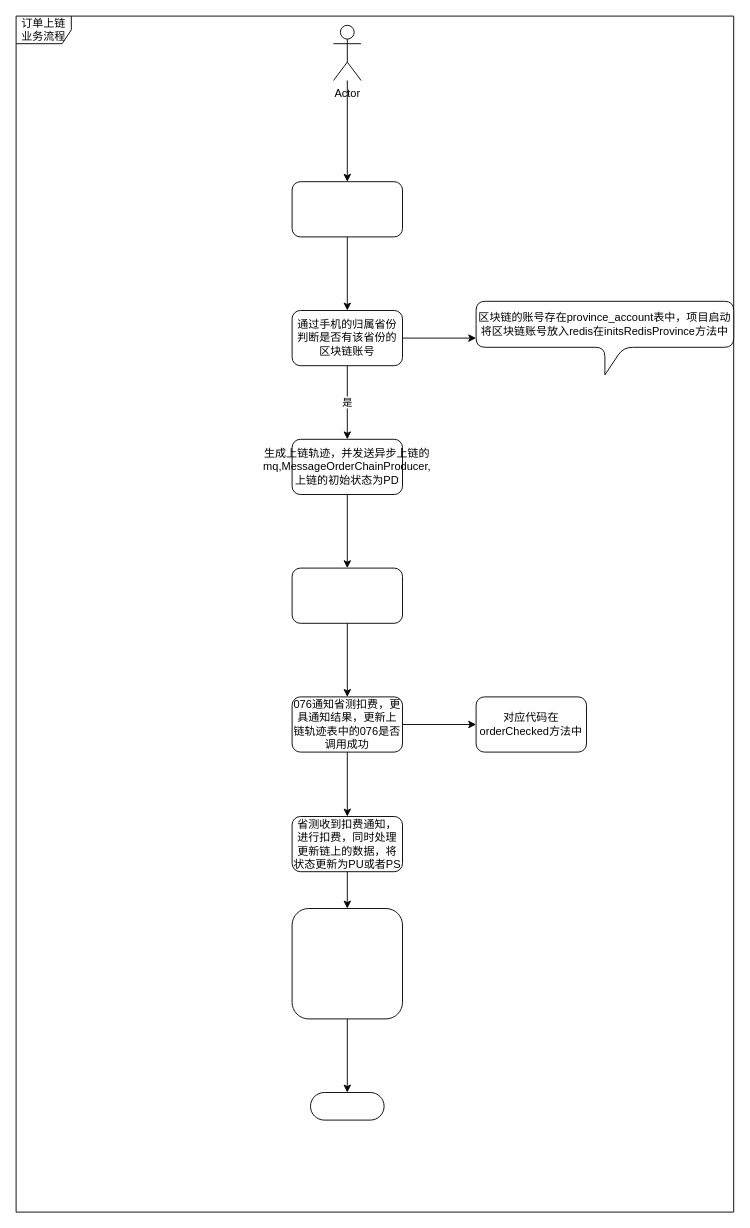
Image size: 750x1228. Some labels were removed from this diagram. Each missing label, with the centre of its shape:
"EXTB005接口，13类型权益包订购" belongs at pixel 346 209.
"业务流程结束" belongs at pixel 347 1106.
"定时任务模块QklTask类的queryChainOrderByTime方法，拉取链上数据，如果发现省测更改状态为PS,或者PU的话，更新对应的订单上链轨迹表" belongs at pixel 346 963.
"对应的消费者收到消息后，根据上链结果，更新订单轨迹是否上链成功" belongs at pixel 346 595.
